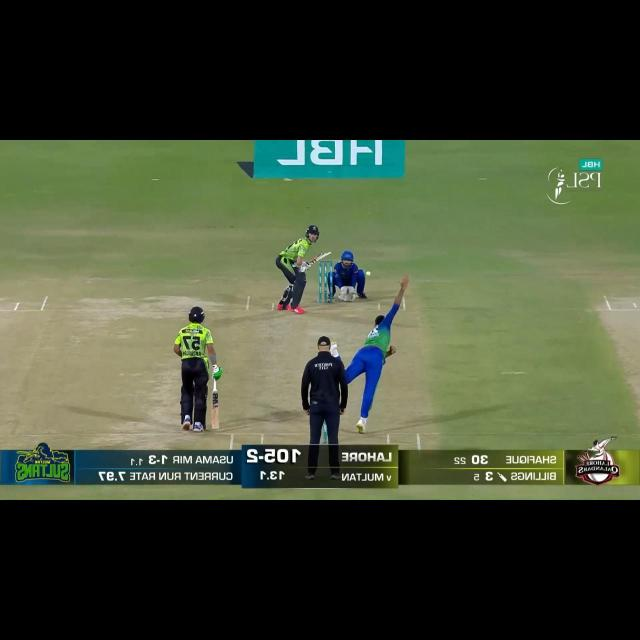bat: (305, 246, 336, 267), (210, 391, 223, 432)
toe: (210, 422, 223, 430), (322, 249, 334, 257)
